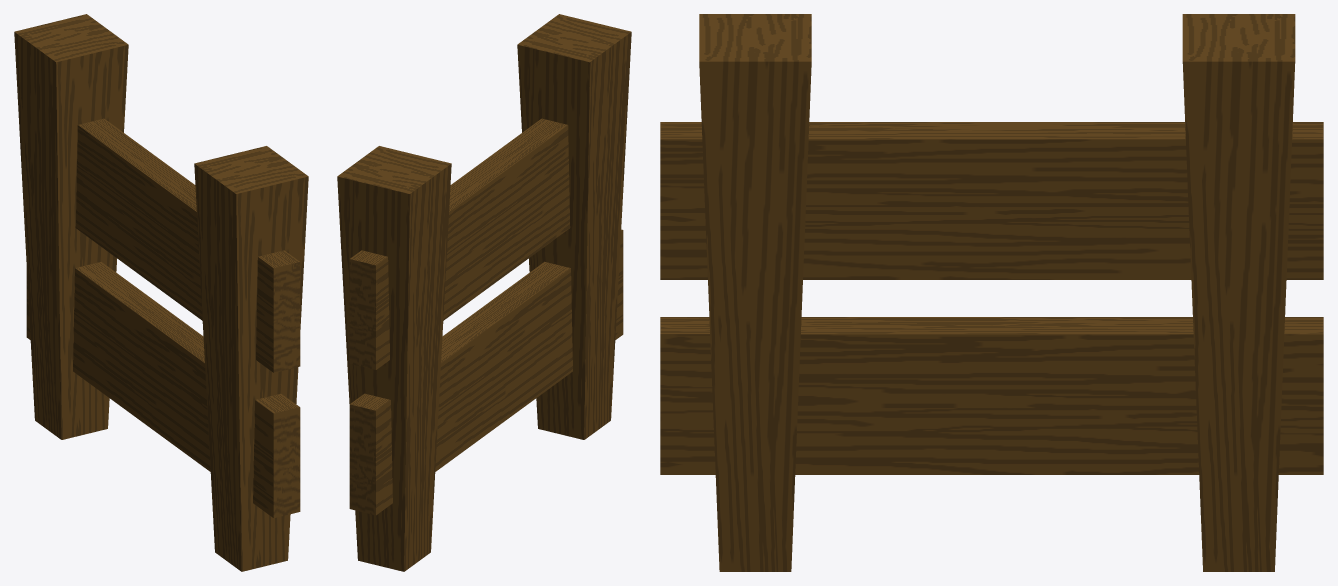
The model's file is fence_1.fbx.
3 views of the same model, side by side, from view 1: azimuth 30°, elevation 25°; view 2: azimuth 150°, elevation 25°; view 3: azimuth 270°, elevation 25° (orthographic). The views are drawn at different scales.
Visible parts, largest first — view 1: fence_1; view 2: fence_1; view 3: fence_1.
Boxes of the visible parts, <box> form: fence_1: <box>14,14,308,571</box>; fence_1: <box>337,14,631,571</box>; fence_1: <box>660,14,1323,571</box>.
Bounding box in the file's own units: 39.29 × 200 × 232.
